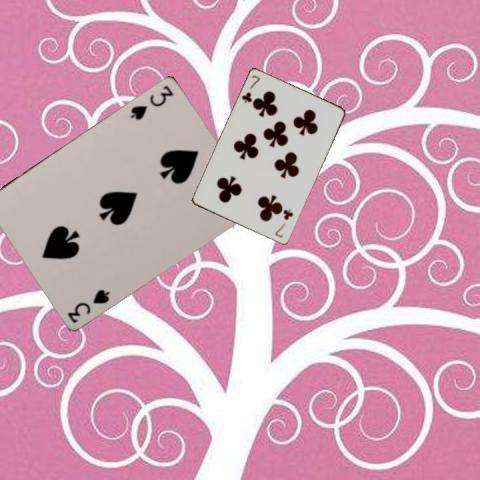3s: (127, 82, 175, 121), (64, 285, 111, 324)
7c: (272, 206, 295, 239), (239, 72, 261, 105)
